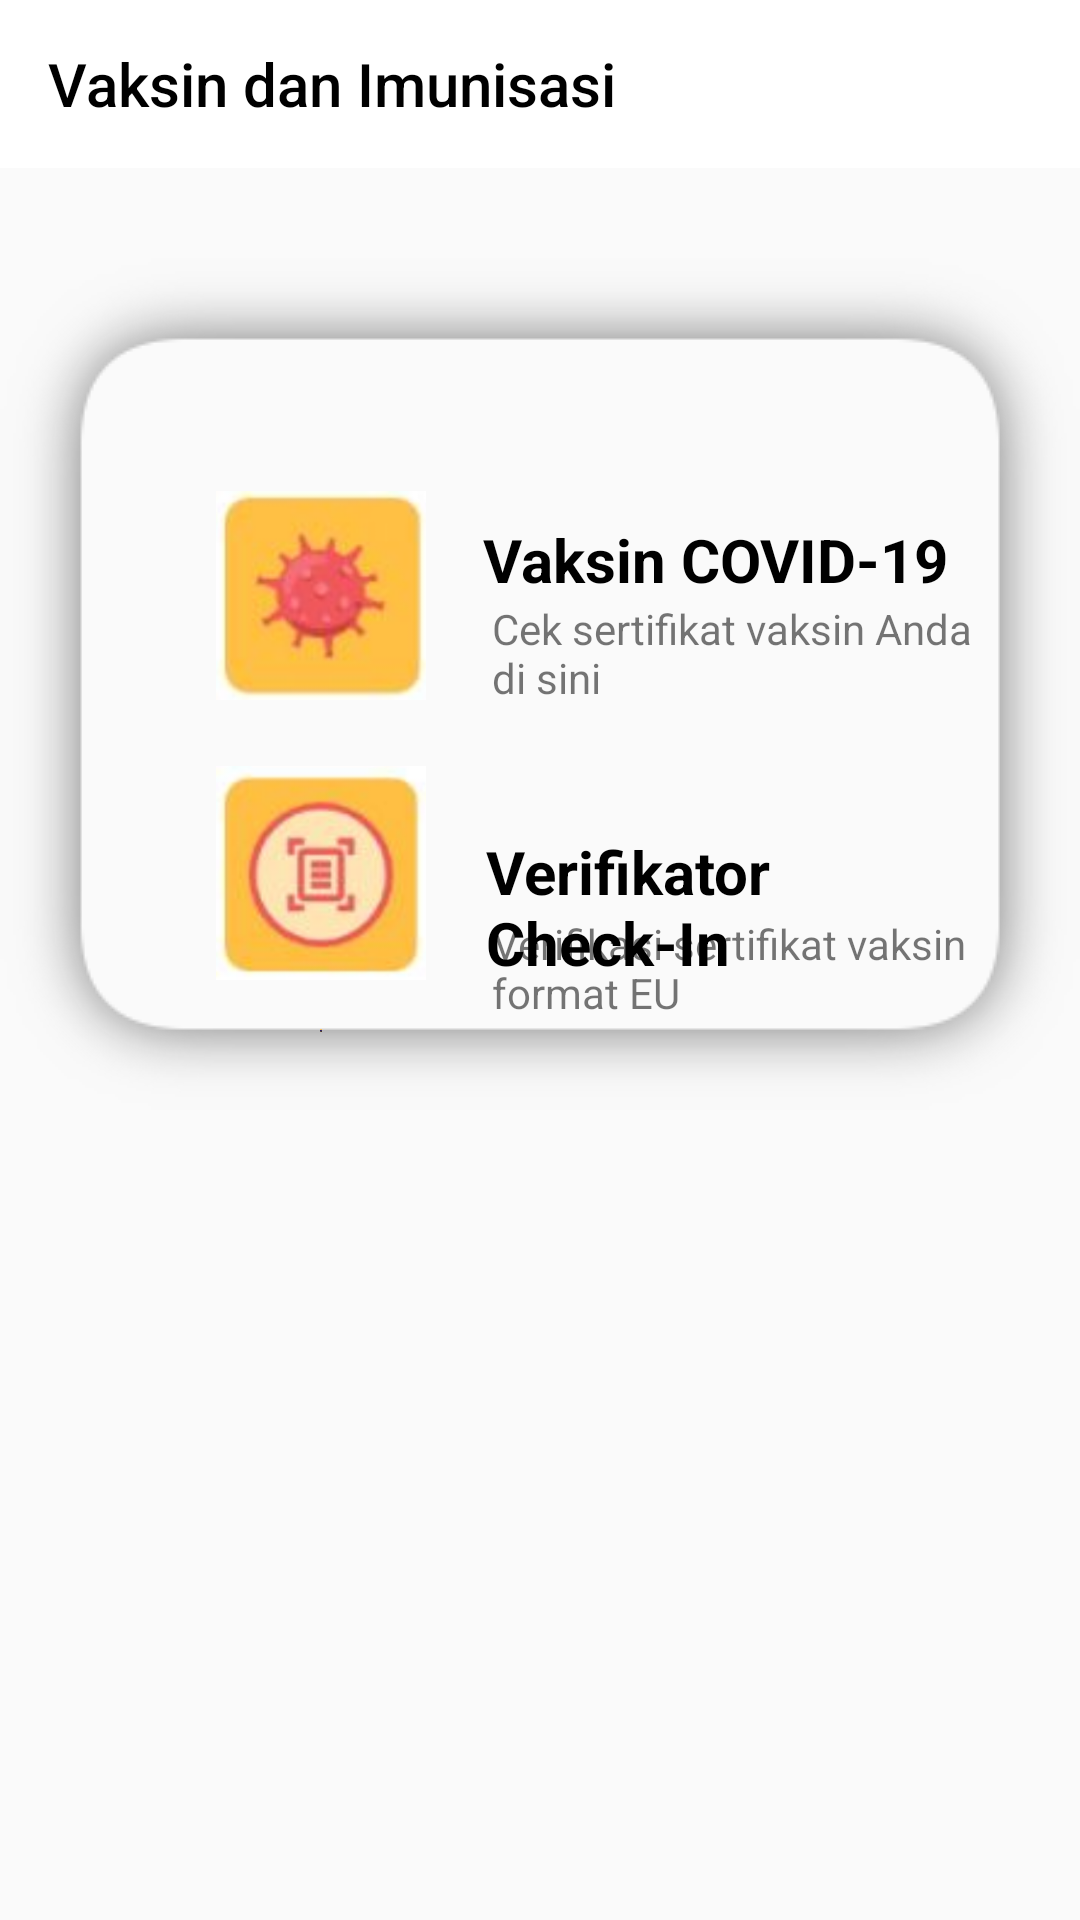

Icons on this 1080*1920 Android screen, each with the point to tap as (x,y):
scan: (321,874)
virus: (322,594)
